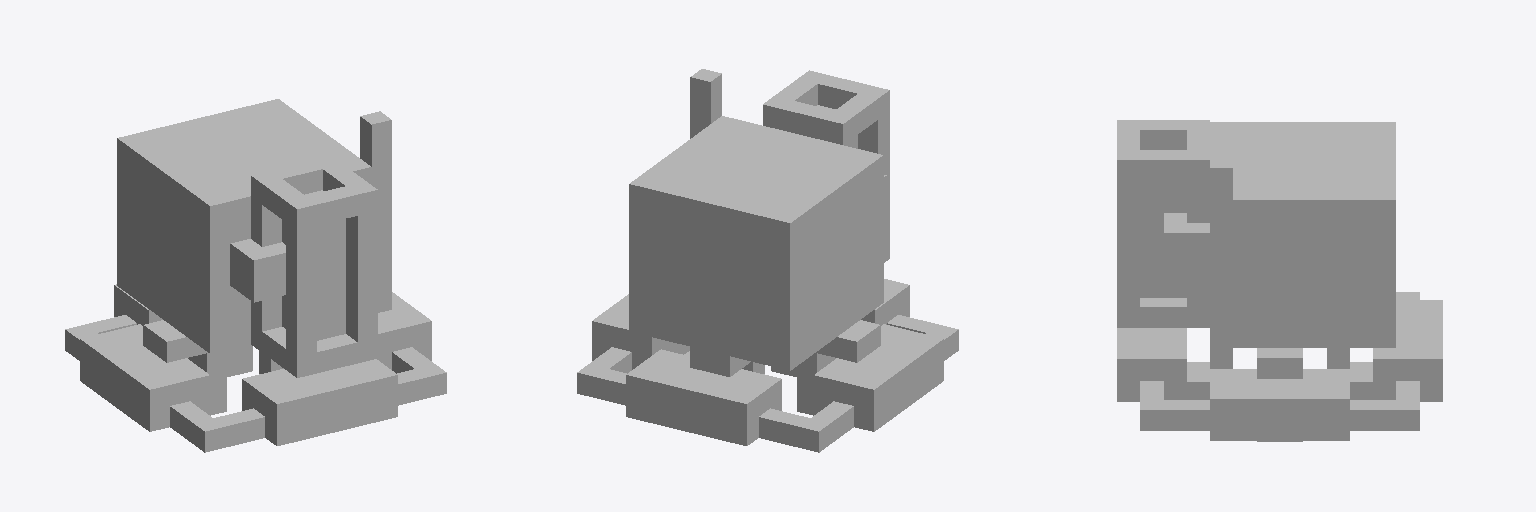
The model's file is Spark.obj.
3 renders of one model, left to right at view 1: azimuth 30°, elevation 25°; view 2: azimuth 150°, elevation 25°; view 3: azimuth 270°, elevation 25°, orthographic.
Bounding box in the file's own units: 0.875 × 0.8125 × 0.875.